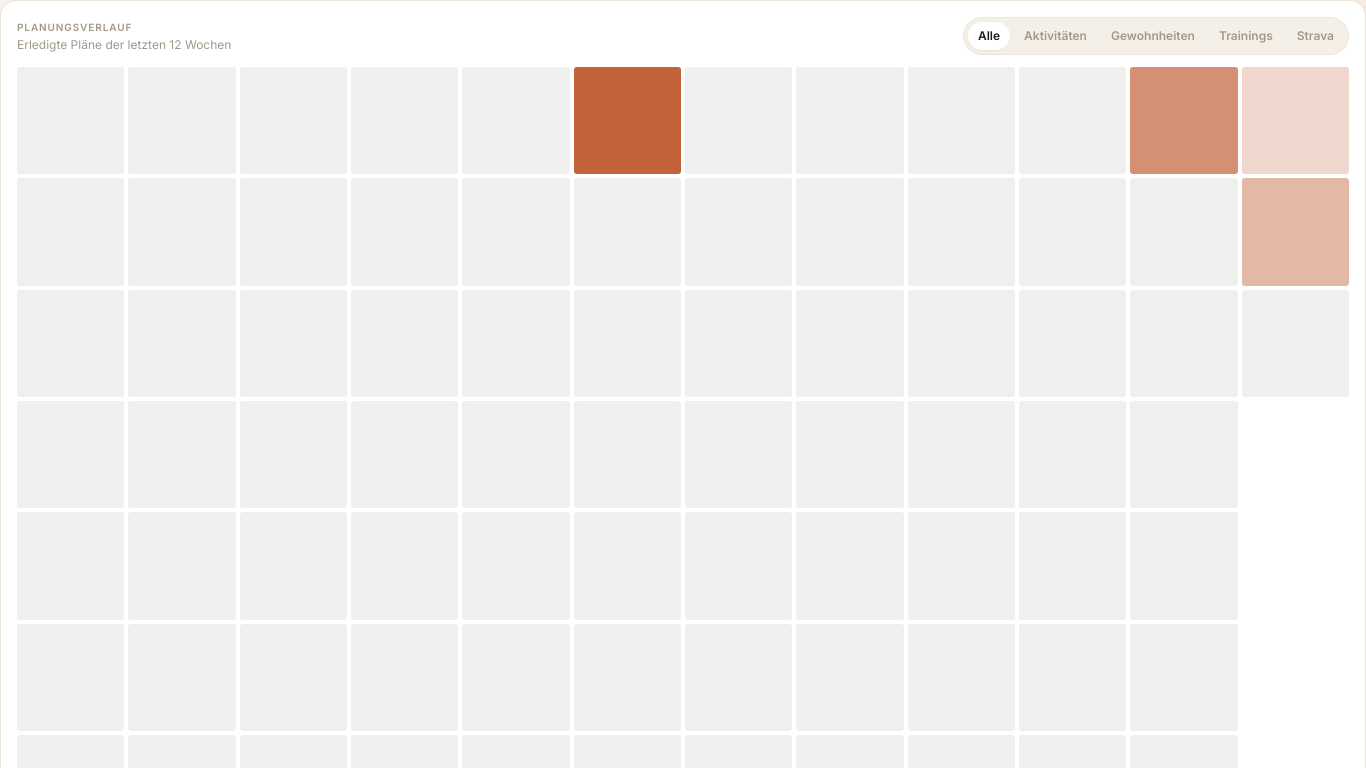
PlannerHeatmap – Filter › filtert nach Aktivitäten und Gewohnheiten
The width and height of the screenshot is (1366, 768).
What coordinates should you click on to do the following:
click the button "Aktivitäten"
I would click on:
 (1056, 36)
Its box is [1014,22,1097,50].
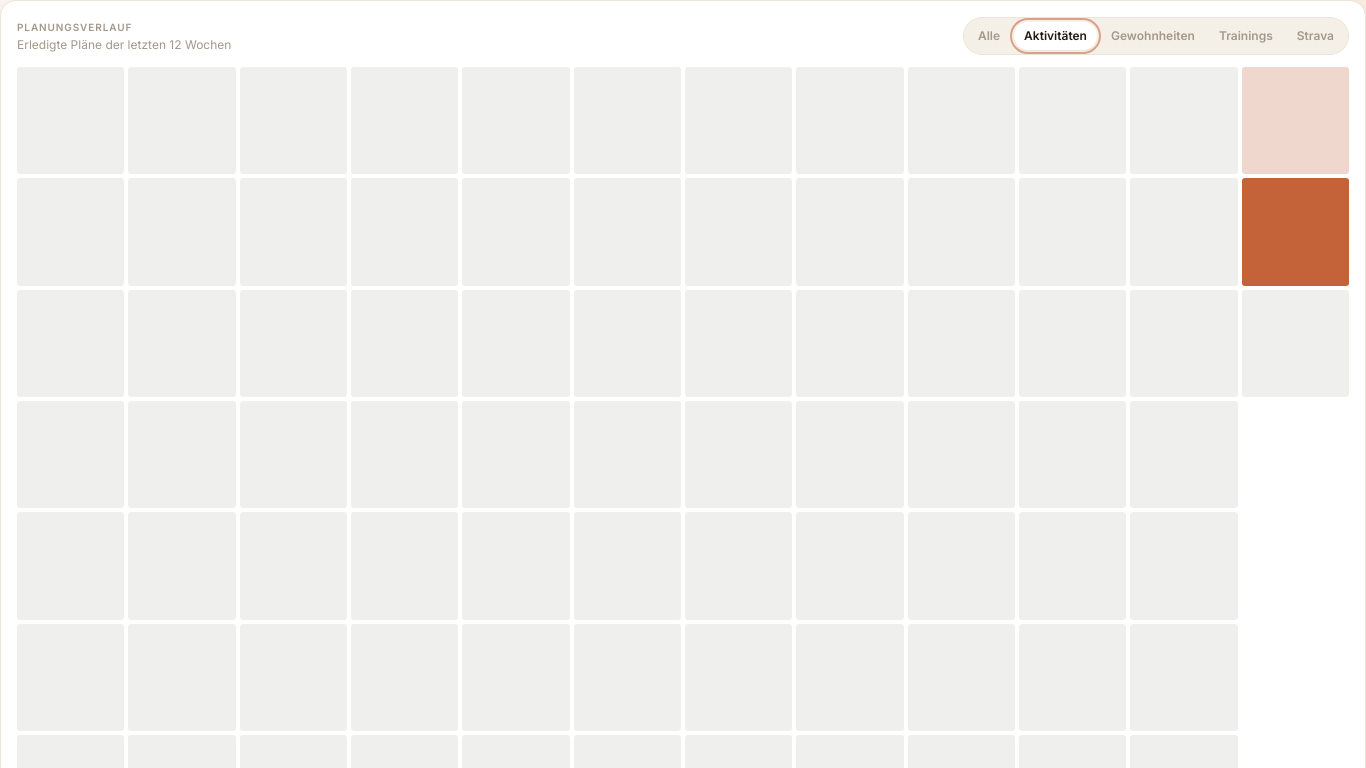
Result: the element titled "14. Juli: 1 von 1 erledigt" is shown at [1242,178,1349,286]
What coordinates should you click on to do the following:
click the button "Gewohnheiten"
I would click on:
 (1153, 36)
Its box is [1101,22,1205,50].
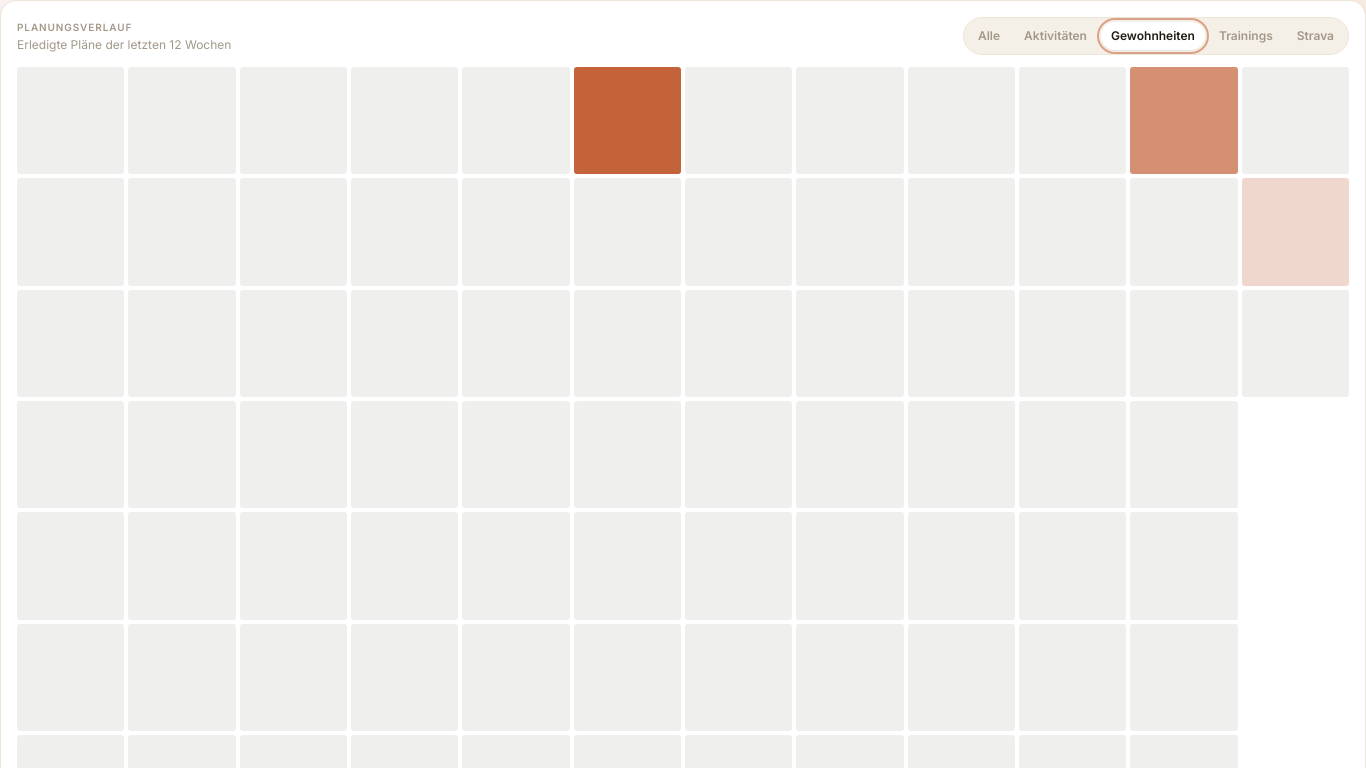
Result: the element titled "14. Juli: 0 von 1 erledigt" is shown at [1242,178,1349,286]
What coordinates should you click on to do the following:
click the button "Alle"
I would click on:
 (989, 36)
Its box is [968,22,1010,50].
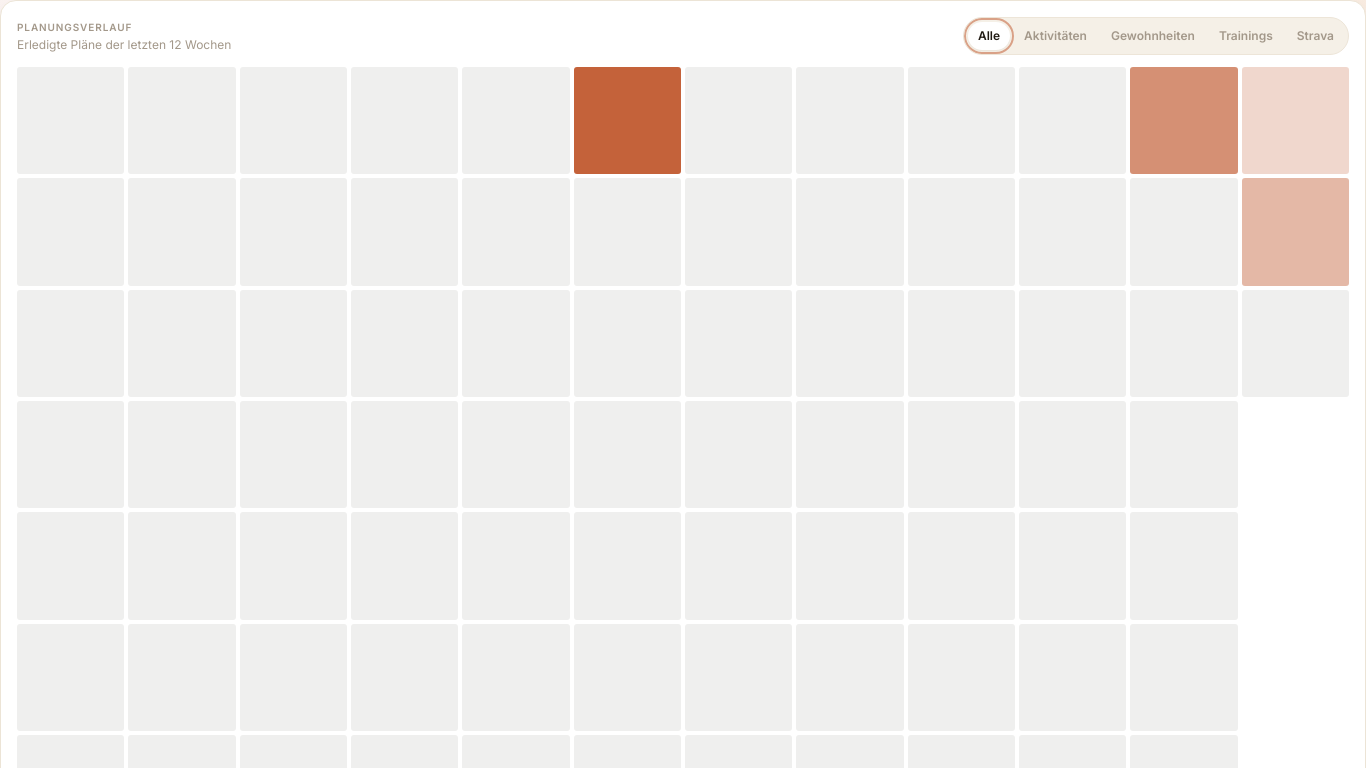
Result: the element titled "14. Juli: 1 von 2 erledigt" is shown at [1242,178,1349,286]
